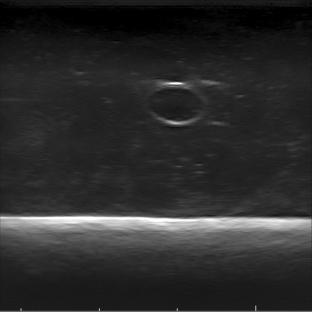vessel: (144, 80, 206, 128)
